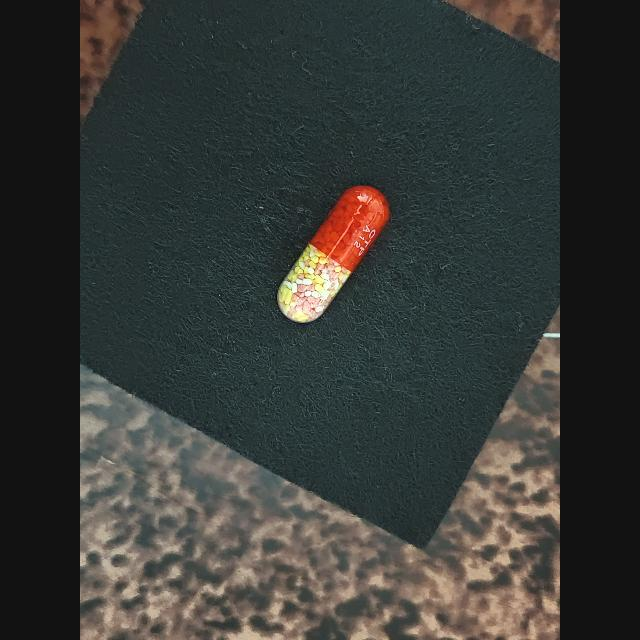Intact Capsule: (277, 186, 390, 323)
